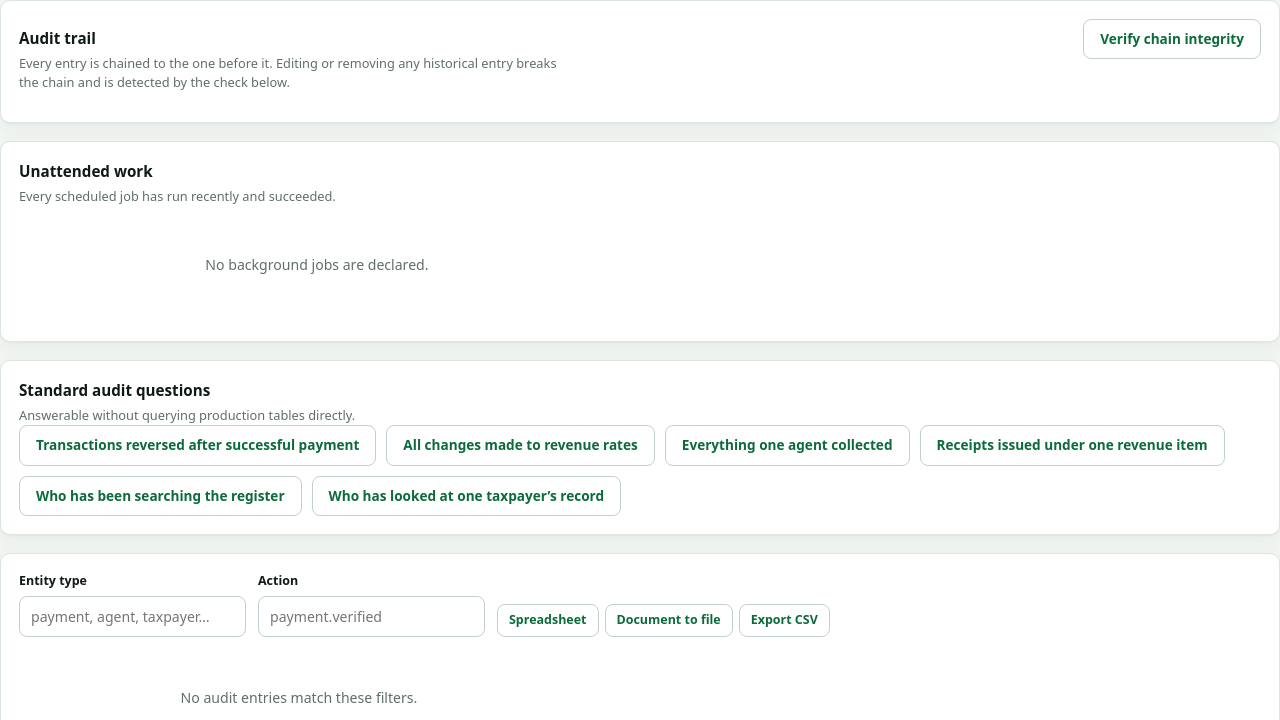
Scenario: the standard audit questions are written in words › heads the question that asks for a parameter with words too
Expected: the heading "Unattended work" is shown, [19, 161, 153, 181]
This one needs an agent chosen, so pressing it opens the parameter card.
Click the button "Everything one agent collected".
click(787, 446)  # box [665, 425, 910, 466]
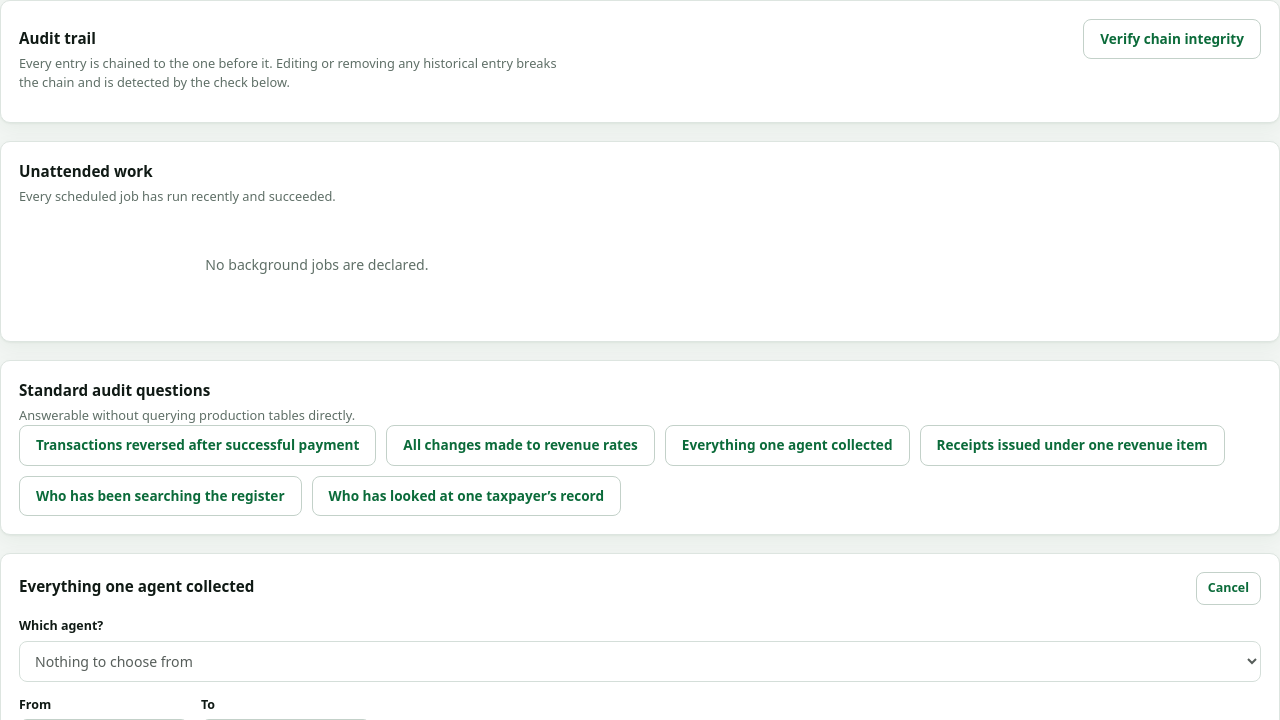
Now the heading "Everything one agent collected" is shown, box [19, 575, 254, 598]
